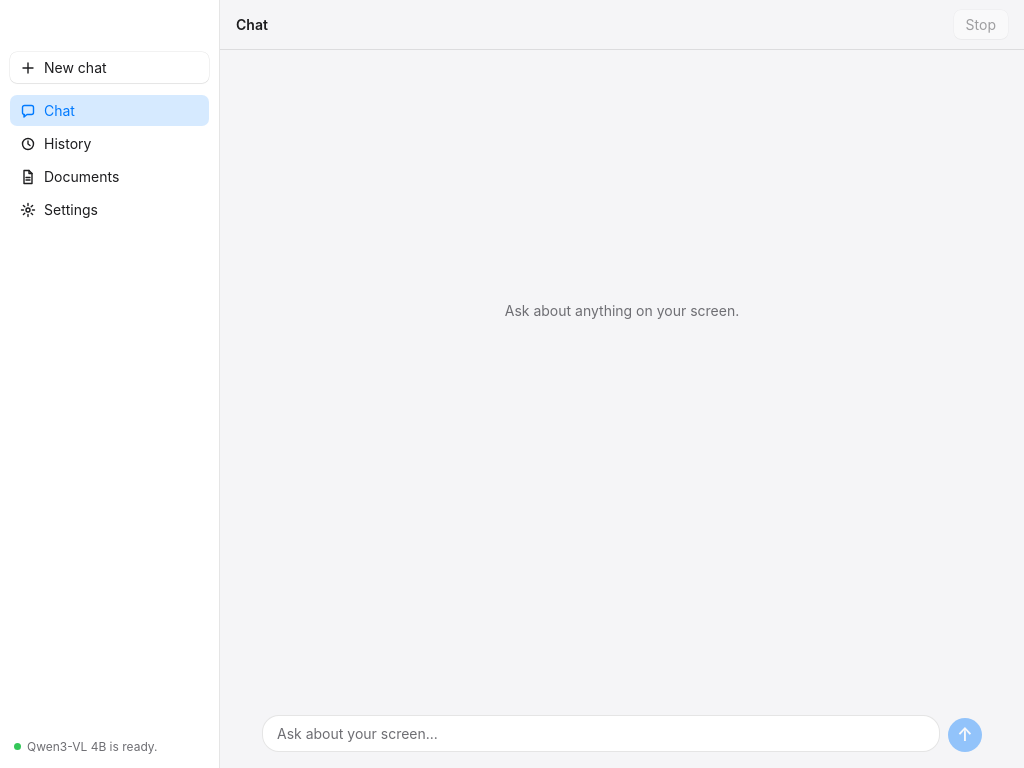
opening a saved chat shows its turns on the Chat page
The width and height of the screenshot is (1024, 768).
Click the button "History".
click(110, 144)  # box [10,128,209,159]
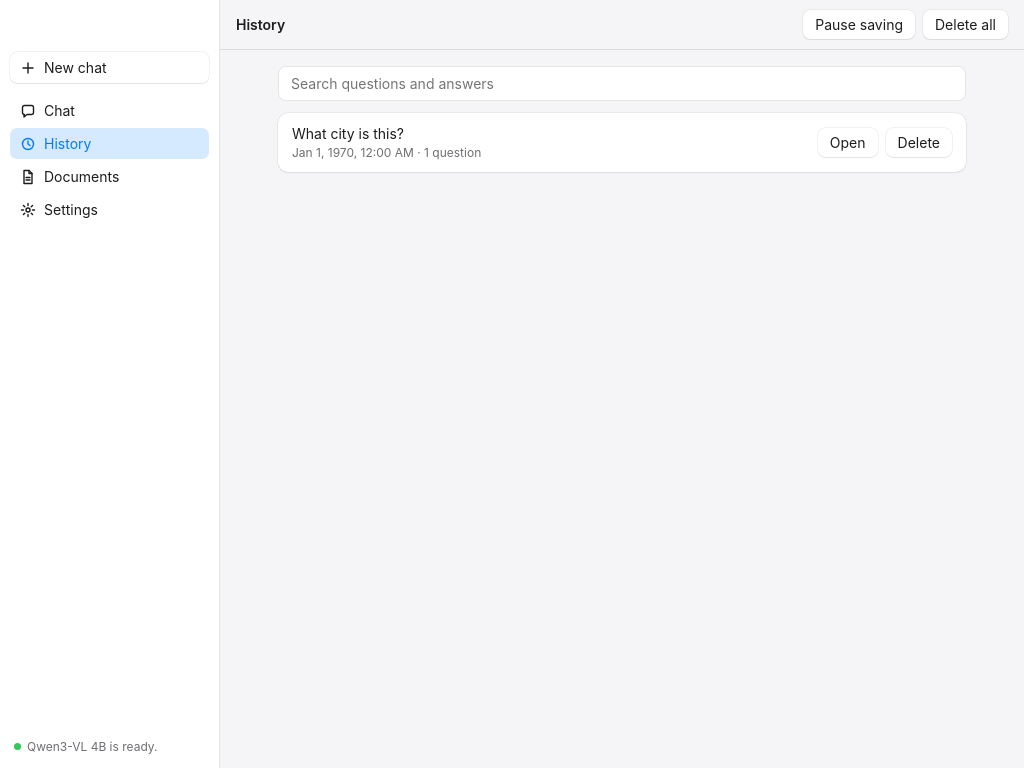
Click the button "Open".
click(848, 142)  # box [818,128,878,157]
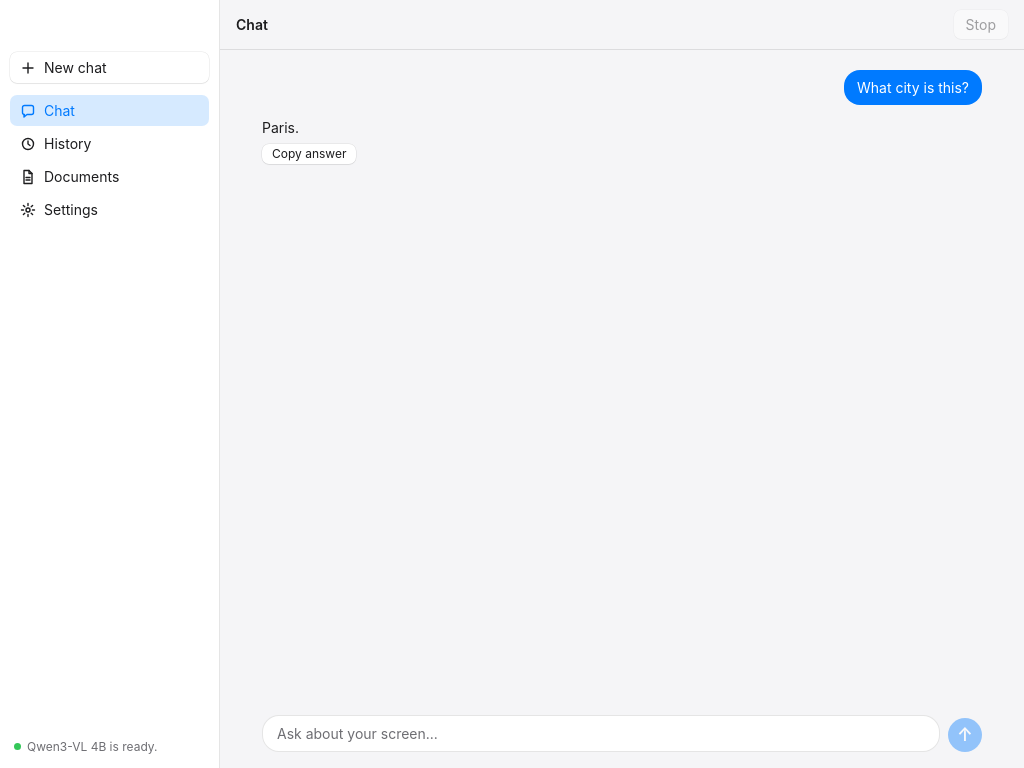
Check: the heading "Chat" is shown, box [236,14,268,35]
Check: the element showing "What city is this? Paris. Copy answer" is shown, box [262,70,982,164]
